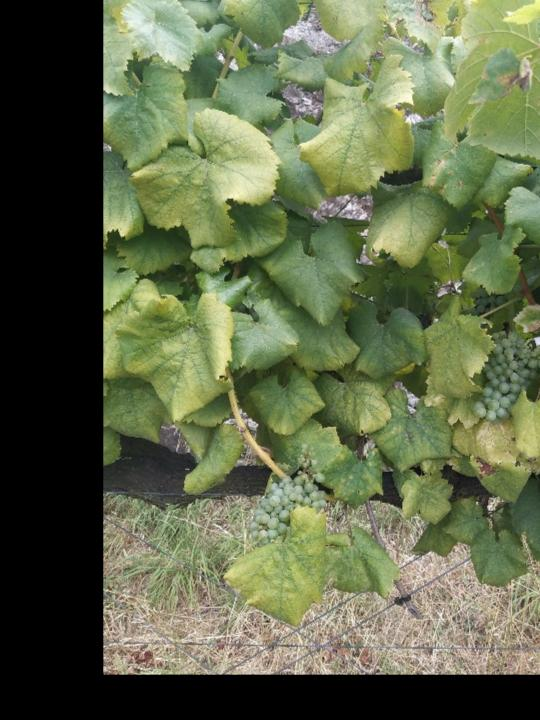grape: (472, 330, 540, 426), (248, 473, 328, 547)
